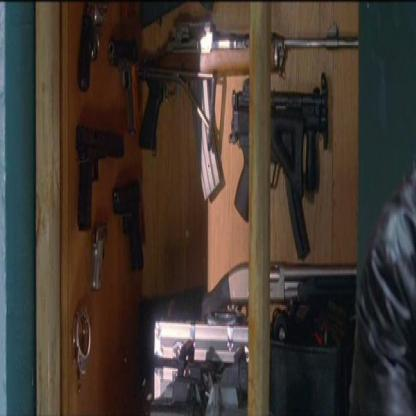Guns: (73, 0, 360, 320)
